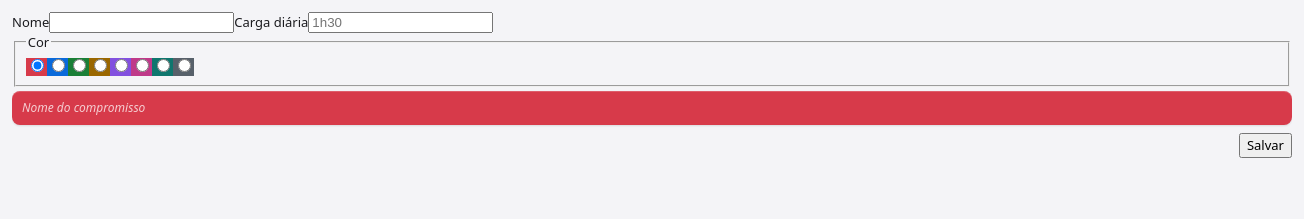
Test case: commitment form › surfaces a failure returned by the action
In the field labelled "Nome": (142, 22) [49,12,234,33], type "TRABALHO"
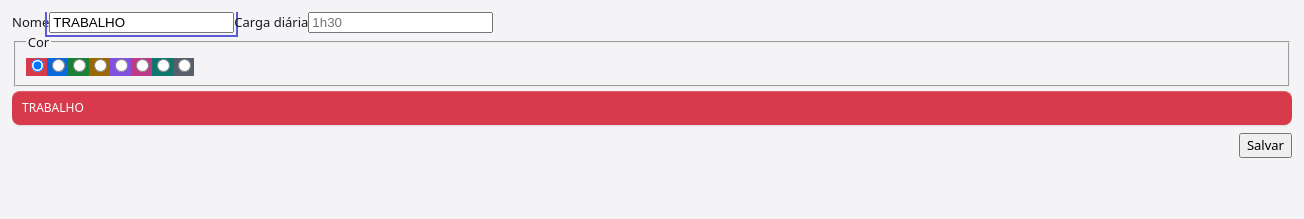
Click the button "Salvar": (1265, 145) [1239,133,1292,158]
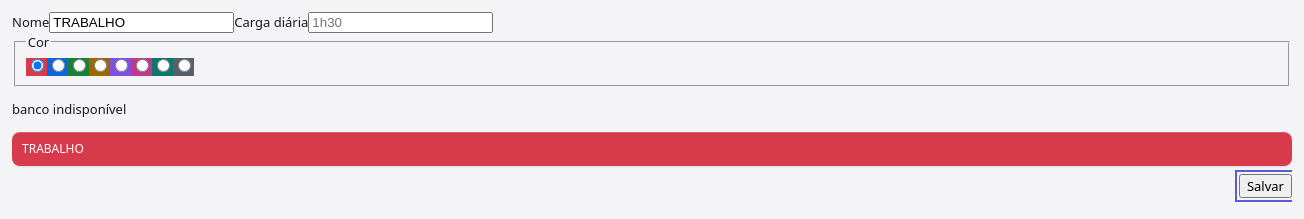
Now the message reads "banco indisponível", box [12,100,126,118]
